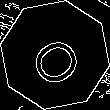O_NE: (22, 23, 88, 87)
